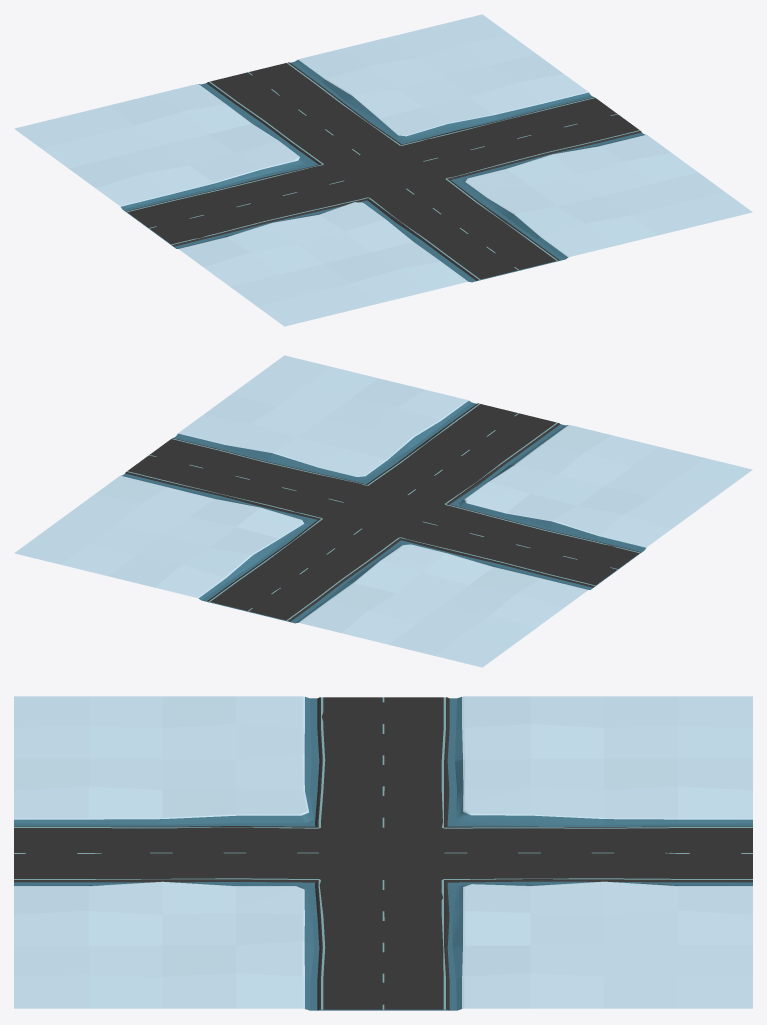
File: model_road_snow_crossroad_03.fbx
3 views of the same model, one above another, from view 1: azimuth 30°, elevation 25°; view 2: azimuth 150°, elevation 25°; view 3: azimuth 270°, elevation 25° (orthographic). The views are drawn at different scales.
Parts seen in each view (by area): view 1: model_road_snow_crossroad_03; view 2: model_road_snow_crossroad_03; view 3: model_road_snow_crossroad_03.
Boxes of the visible parts, left/top/right/bottom form: model_road_snow_crossroad_03: left=14, top=14, right=752, bottom=326; model_road_snow_crossroad_03: left=14, top=355, right=752, bottom=667; model_road_snow_crossroad_03: left=14, top=696, right=752, bottom=1010.
Size of the model in its own units: 6161 by 62.08 by 6161.
1 material, 1 textured.
